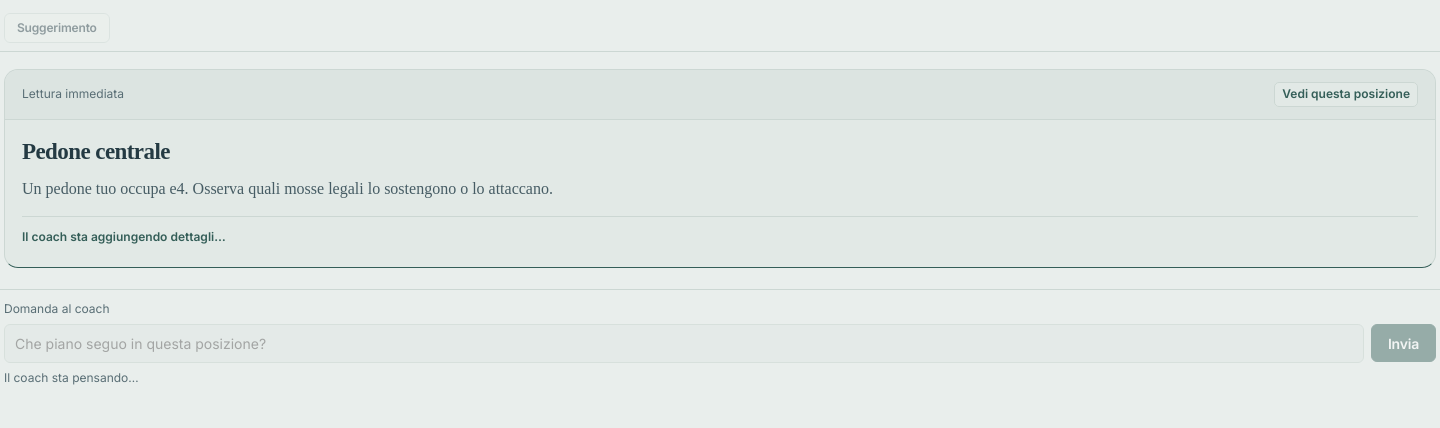
Test: CoachTab › does not reuse the previous answer before the next stream starts
Expected: the text "Lettura immediata" is shown, [22, 85, 124, 103]
Expected: the text "Il coach sta aggiungendo dettagli…" is shown, [22, 229, 226, 244]
Click the button "Vedi questa posizione".
click(1346, 94)  # box [1274, 82, 1418, 107]
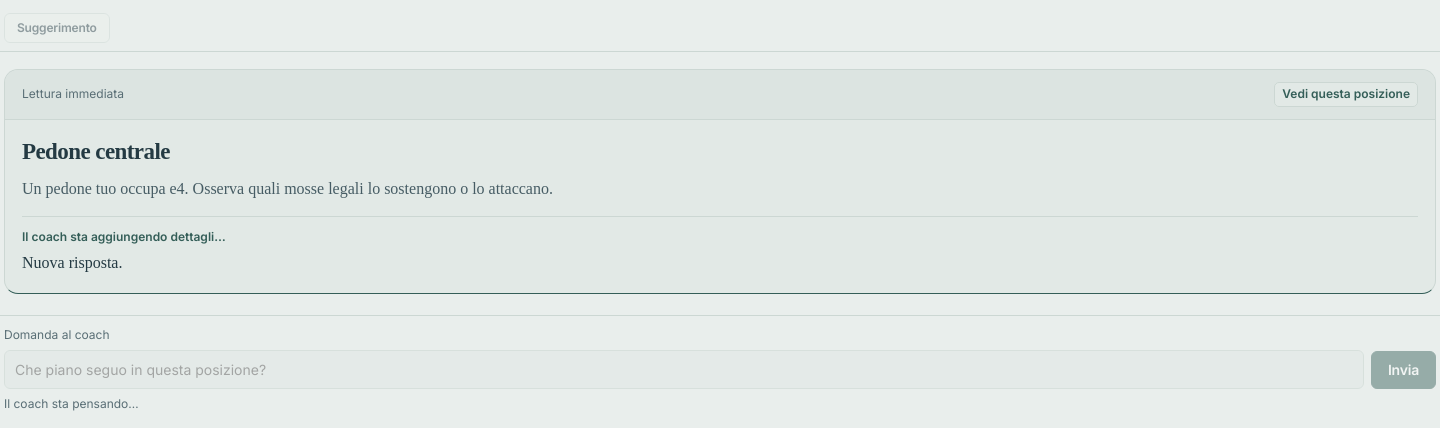
Expected: the text "Nuova risposta." is shown, [22, 254, 122, 271]
